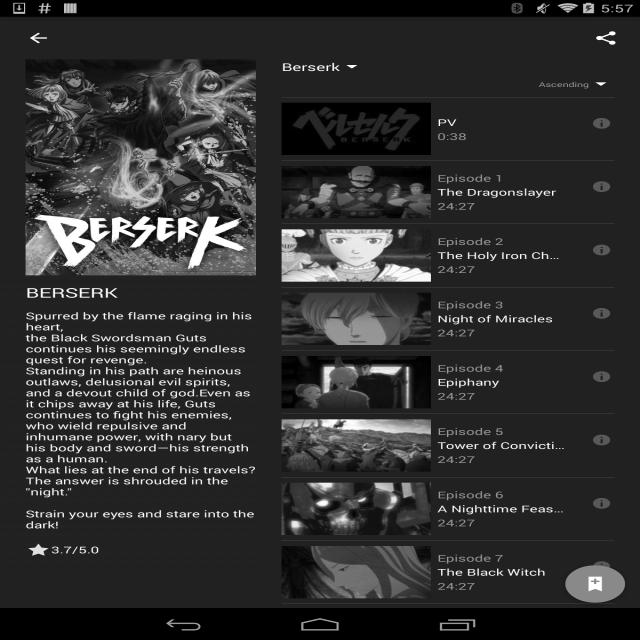ImageButton: (9, 17, 68, 59)
ImageView: (26, 59, 256, 276), (282, 229, 431, 282), (282, 419, 431, 472), (282, 103, 431, 155), (282, 166, 431, 218), (282, 293, 431, 345), (282, 356, 431, 408), (282, 483, 431, 535), (282, 546, 431, 598), (552, 553, 638, 615), (589, 115, 614, 132), (589, 178, 614, 194), (589, 242, 614, 258), (589, 306, 614, 322), (589, 368, 614, 384), (589, 432, 614, 448), (589, 496, 614, 512), (589, 558, 614, 574)
Spinner: (282, 49, 446, 85), (539, 72, 614, 97)
TextView: (26, 309, 256, 531), (282, 49, 359, 85), (539, 72, 608, 97), (25, 284, 118, 302), (580, 22, 632, 54), (438, 116, 566, 129), (438, 130, 566, 143), (438, 235, 566, 248), (438, 249, 566, 262), (438, 263, 566, 276), (438, 298, 566, 311), (438, 312, 566, 325), (438, 326, 566, 339), (438, 425, 566, 438), (438, 439, 566, 452), (438, 453, 566, 466), (438, 488, 566, 501), (438, 502, 566, 515), (438, 516, 566, 529), (438, 172, 566, 184), (438, 186, 566, 198), (438, 200, 566, 212), (438, 362, 566, 374), (438, 376, 566, 388), (438, 390, 566, 402), (438, 552, 566, 564), (438, 566, 566, 578), (438, 580, 566, 592), (26, 542, 99, 558)
